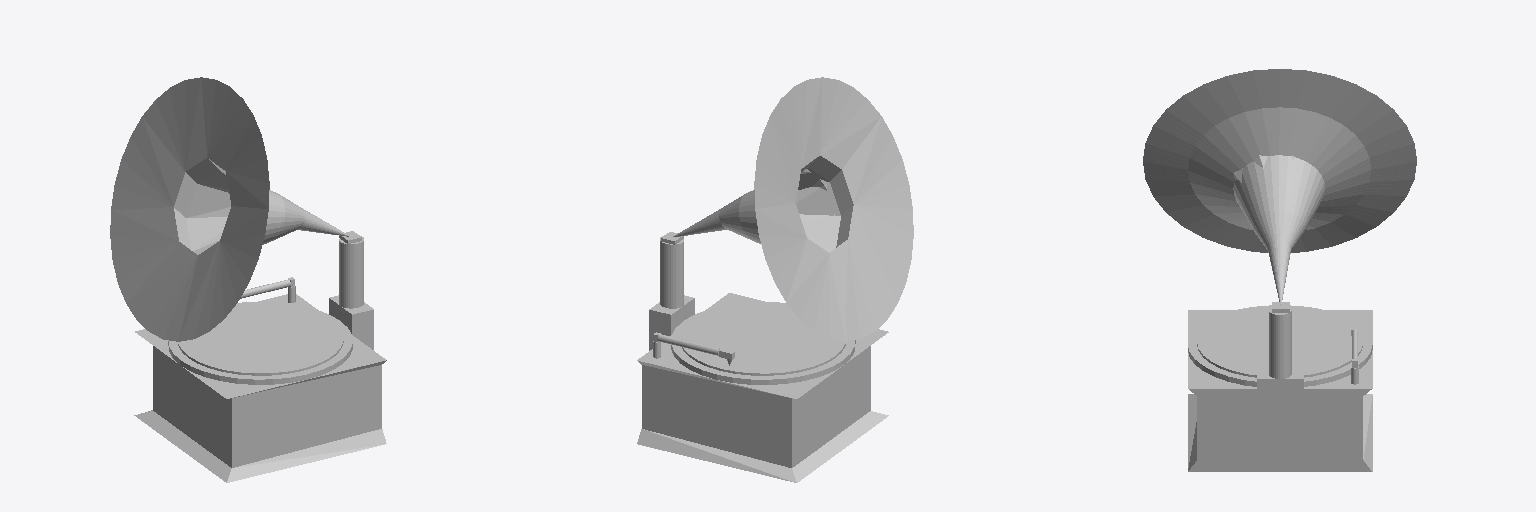
The model's file is GramophoneV2.obj.
The picture shows the model from 3 angles: view 1: azimuth 30°, elevation 25°; view 2: azimuth 150°, elevation 25°; view 3: azimuth 270°, elevation 25°; orthographic projection.
Parts seen in each view (by area): view 1: Cube; view 2: Cube; view 3: Cube.
Boxes of the visible parts, box(x1,y1,x2,y2) form: Cube: box(110, 77, 386, 482); Cube: box(637, 77, 913, 482); Cube: box(1143, 69, 1416, 471).
Size of the model in its own units: 5.34 by 8.35 by 5.93.